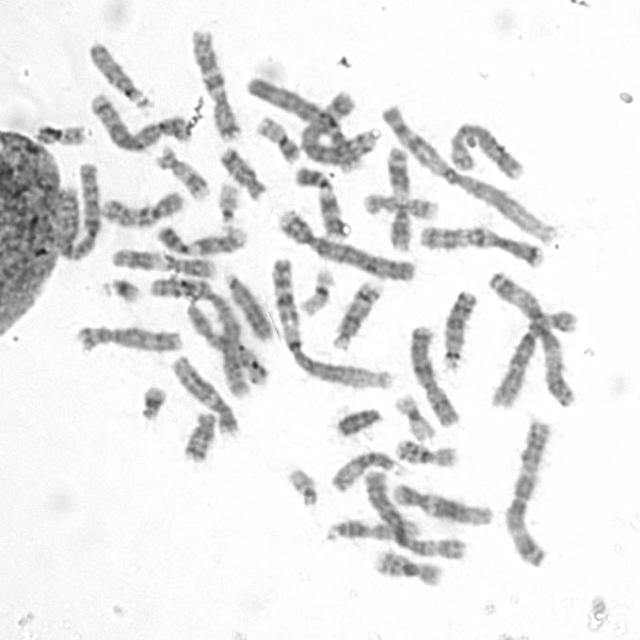A1: (374, 97, 560, 247), (264, 251, 394, 393)
A2: (144, 269, 259, 399), (49, 154, 103, 263)
A3: (483, 263, 580, 408), (498, 412, 554, 568)
B4: (242, 70, 370, 168), (272, 202, 418, 284)
B5: (297, 86, 383, 169), (85, 87, 192, 151)
C10: (181, 302, 269, 387), (96, 185, 186, 229)
C11: (106, 242, 220, 280), (382, 139, 415, 253)
C12: (166, 349, 241, 436), (387, 476, 494, 528)
C6: (359, 464, 468, 561), (484, 303, 580, 411)
C7: (185, 21, 243, 142), (412, 219, 546, 268)
C8: (443, 115, 526, 182), (70, 318, 184, 354)
C9: (289, 160, 349, 242), (150, 218, 250, 257)
D13: (218, 266, 275, 344), (437, 283, 481, 371)
D14: (327, 276, 385, 352), (319, 513, 423, 544)
D15: (82, 35, 153, 111), (326, 443, 404, 495)
E16: (369, 542, 445, 589), (389, 432, 460, 469)
E17: (152, 140, 212, 202), (357, 186, 441, 222)
E18: (215, 140, 268, 202), (176, 405, 218, 464)
F19: (388, 388, 438, 442), (294, 260, 337, 318)
F20: (250, 109, 302, 164), (30, 116, 90, 147)
G21: (95, 271, 142, 304), (134, 378, 168, 422)
G22: (280, 461, 320, 508), (212, 176, 241, 226)
X: (404, 318, 463, 429)
Y: (331, 401, 384, 438)
